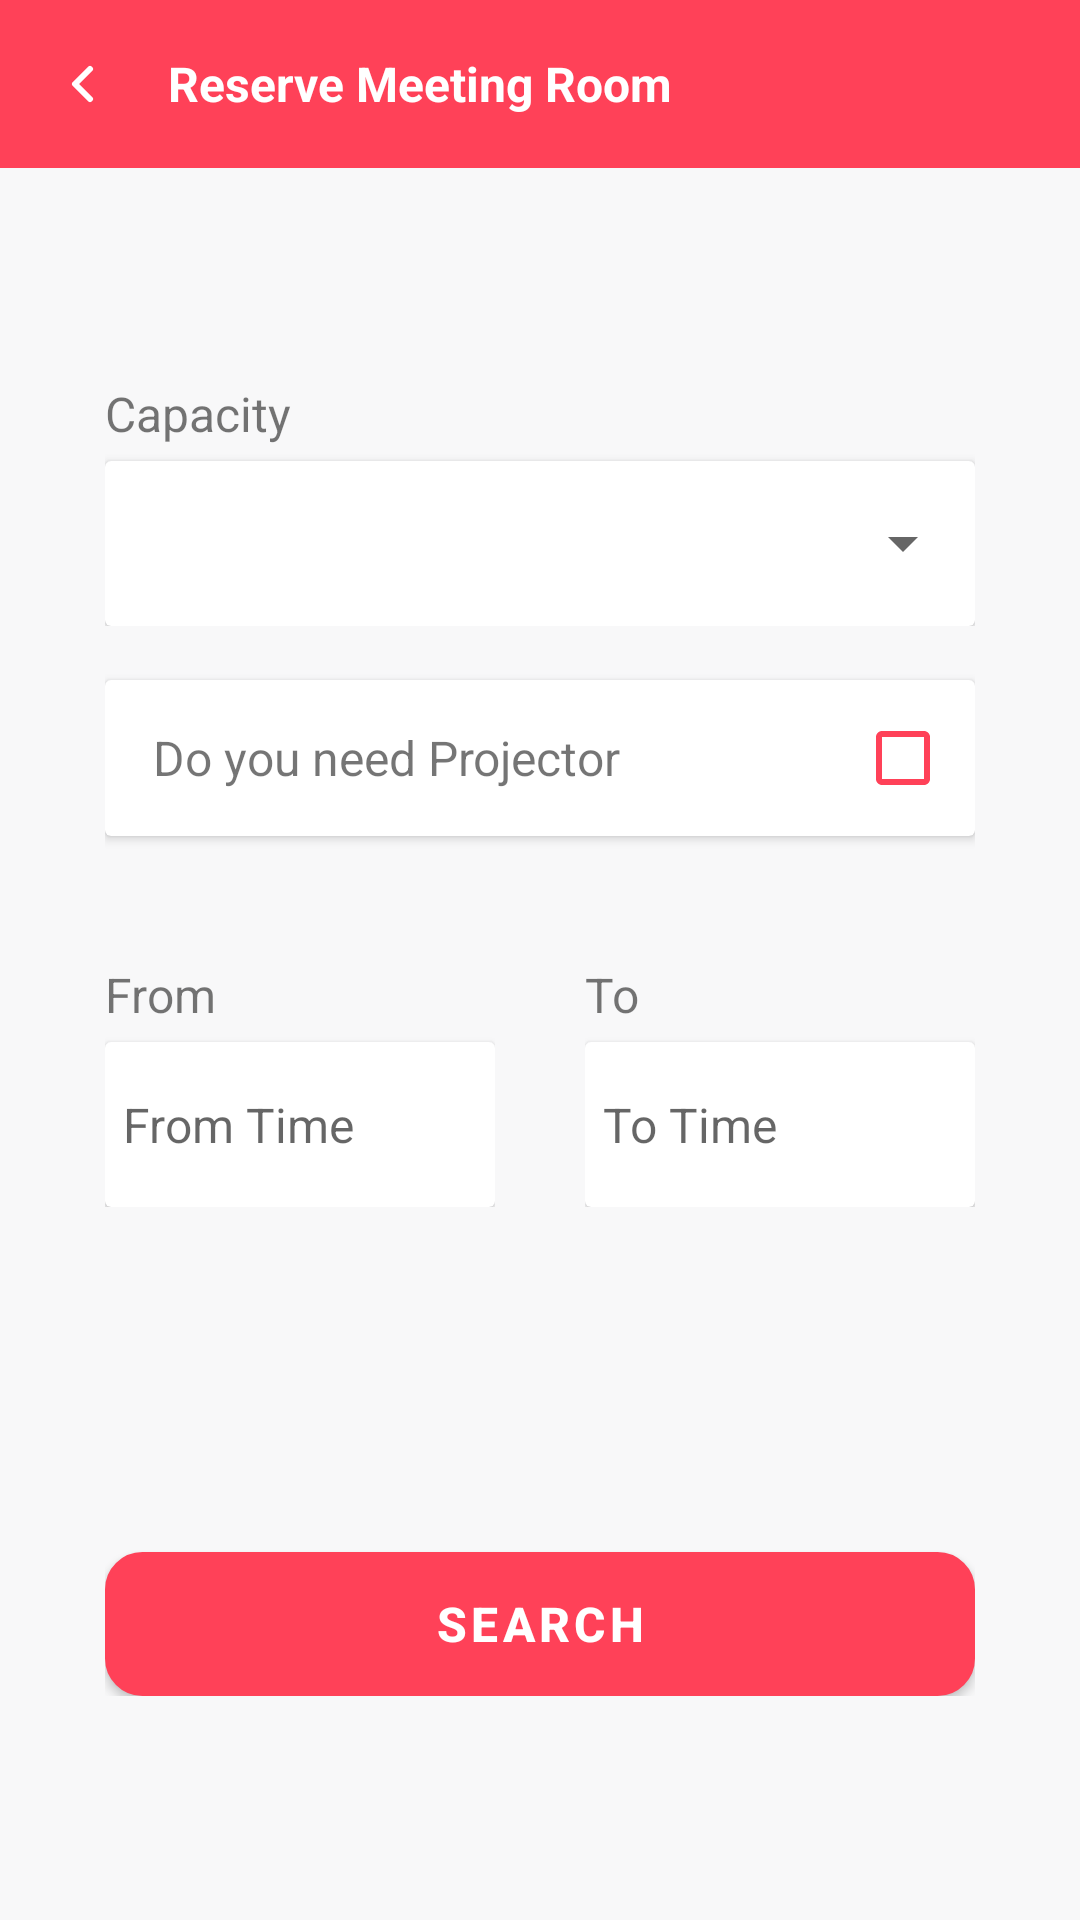

Point at icon controls on the screen. Image size 1080px×1920px, points as point (x, y).
back arrow: point (82, 84)
